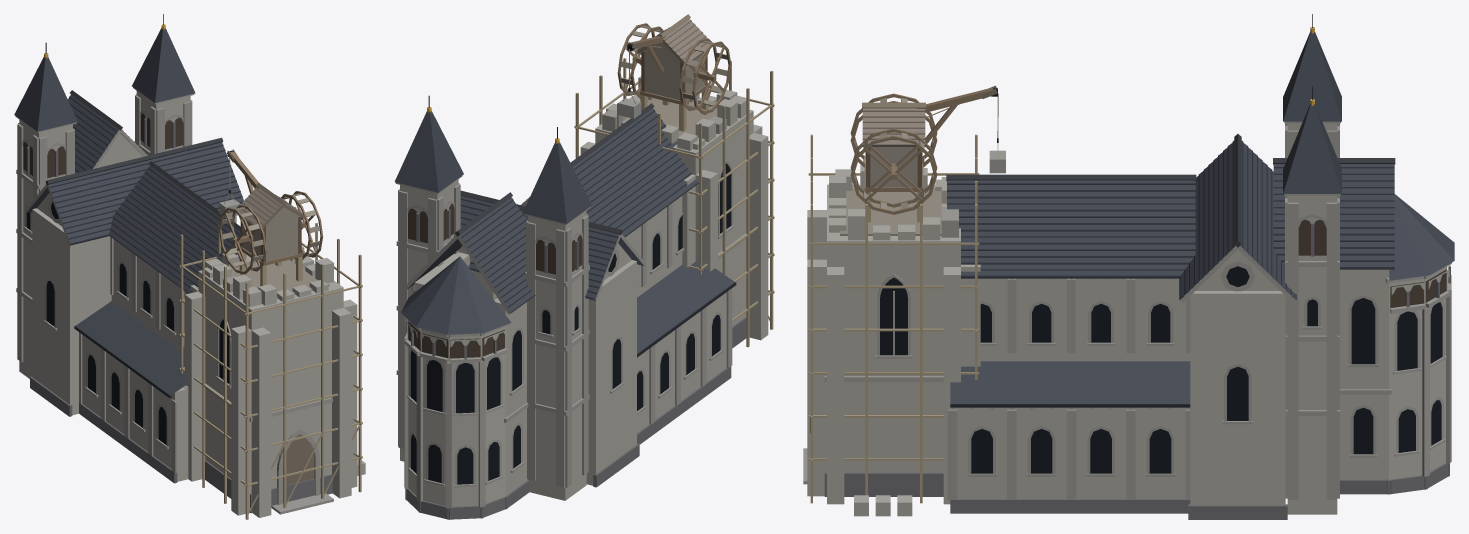
The model's file is koeln_st_severin.glb.
3 views of the same model, side by side, from view 1: azimuth 30°, elevation 25°; view 2: azimuth 150°, elevation 25°; view 3: azimuth 270°, elevation 25° (orthographic). The views are drawn at different scales.
Visible parts, largest first — view 1: Kirche, Baustelle, Tretrad; view 2: Kirche, Baustelle, Tretrad; view 3: Kirche, Baustelle, Tretrad.
Boxes of the visible parts, x1,y1,x2,y2 form: Kirche: (14, 14, 357, 517); Baustelle: (179, 149, 365, 519); Tretrad: (219, 191, 323, 274); Kirche: (394, 76, 768, 519); Baustelle: (574, 14, 774, 347); Tretrad: (617, 23, 731, 114); Kirche: (803, 14, 1454, 519); Baustelle: (808, 85, 1005, 516); Tretrad: (850, 93, 937, 214).
Bounding box in the file's own units: 11.76 × 21.3 × 30.12.
